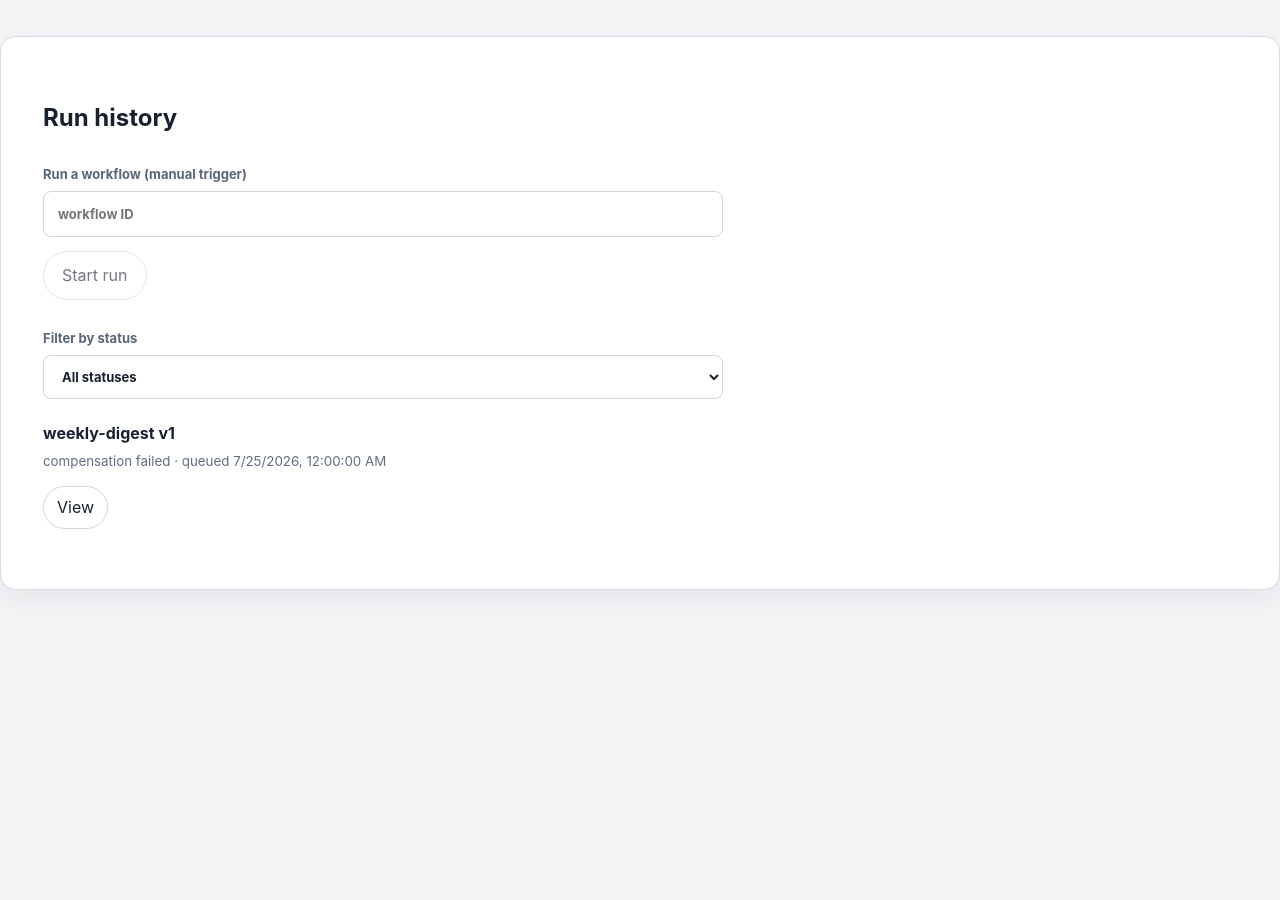
Test case: RunWorkspace › shows a run's detail including status description, steps and compensation ledger
Click the button "View" at point(76, 507), box [43,486,108,529]
(page scrolled)
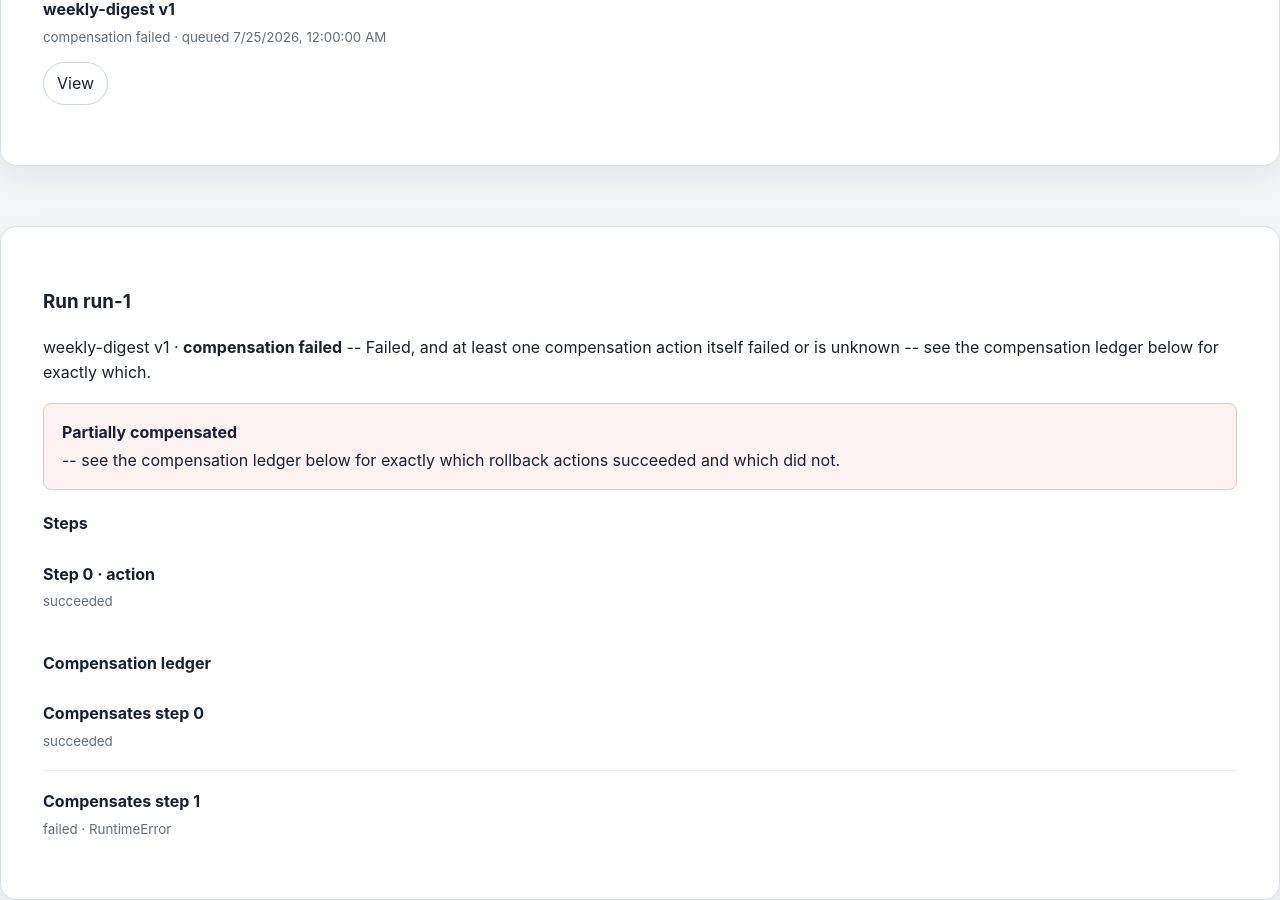
Expected: the text "Partially compensated" is shown, [62,422,237,442]
Expected: the text "Compensates step 0" is shown, [43,703,204,723]
Expected: the text "Compensates step 1" is shown, [43,791,200,811]
